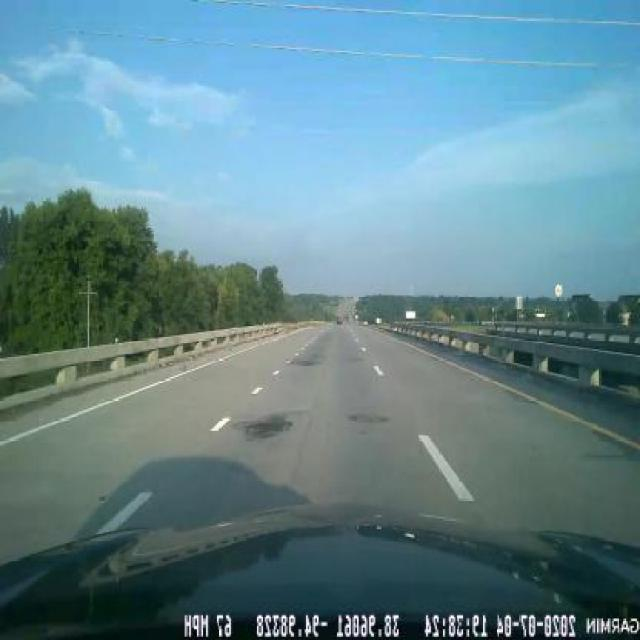pothole: (227, 401, 305, 454), (344, 401, 390, 435)
